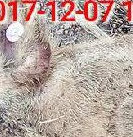text: (0, 17, 29, 47)
